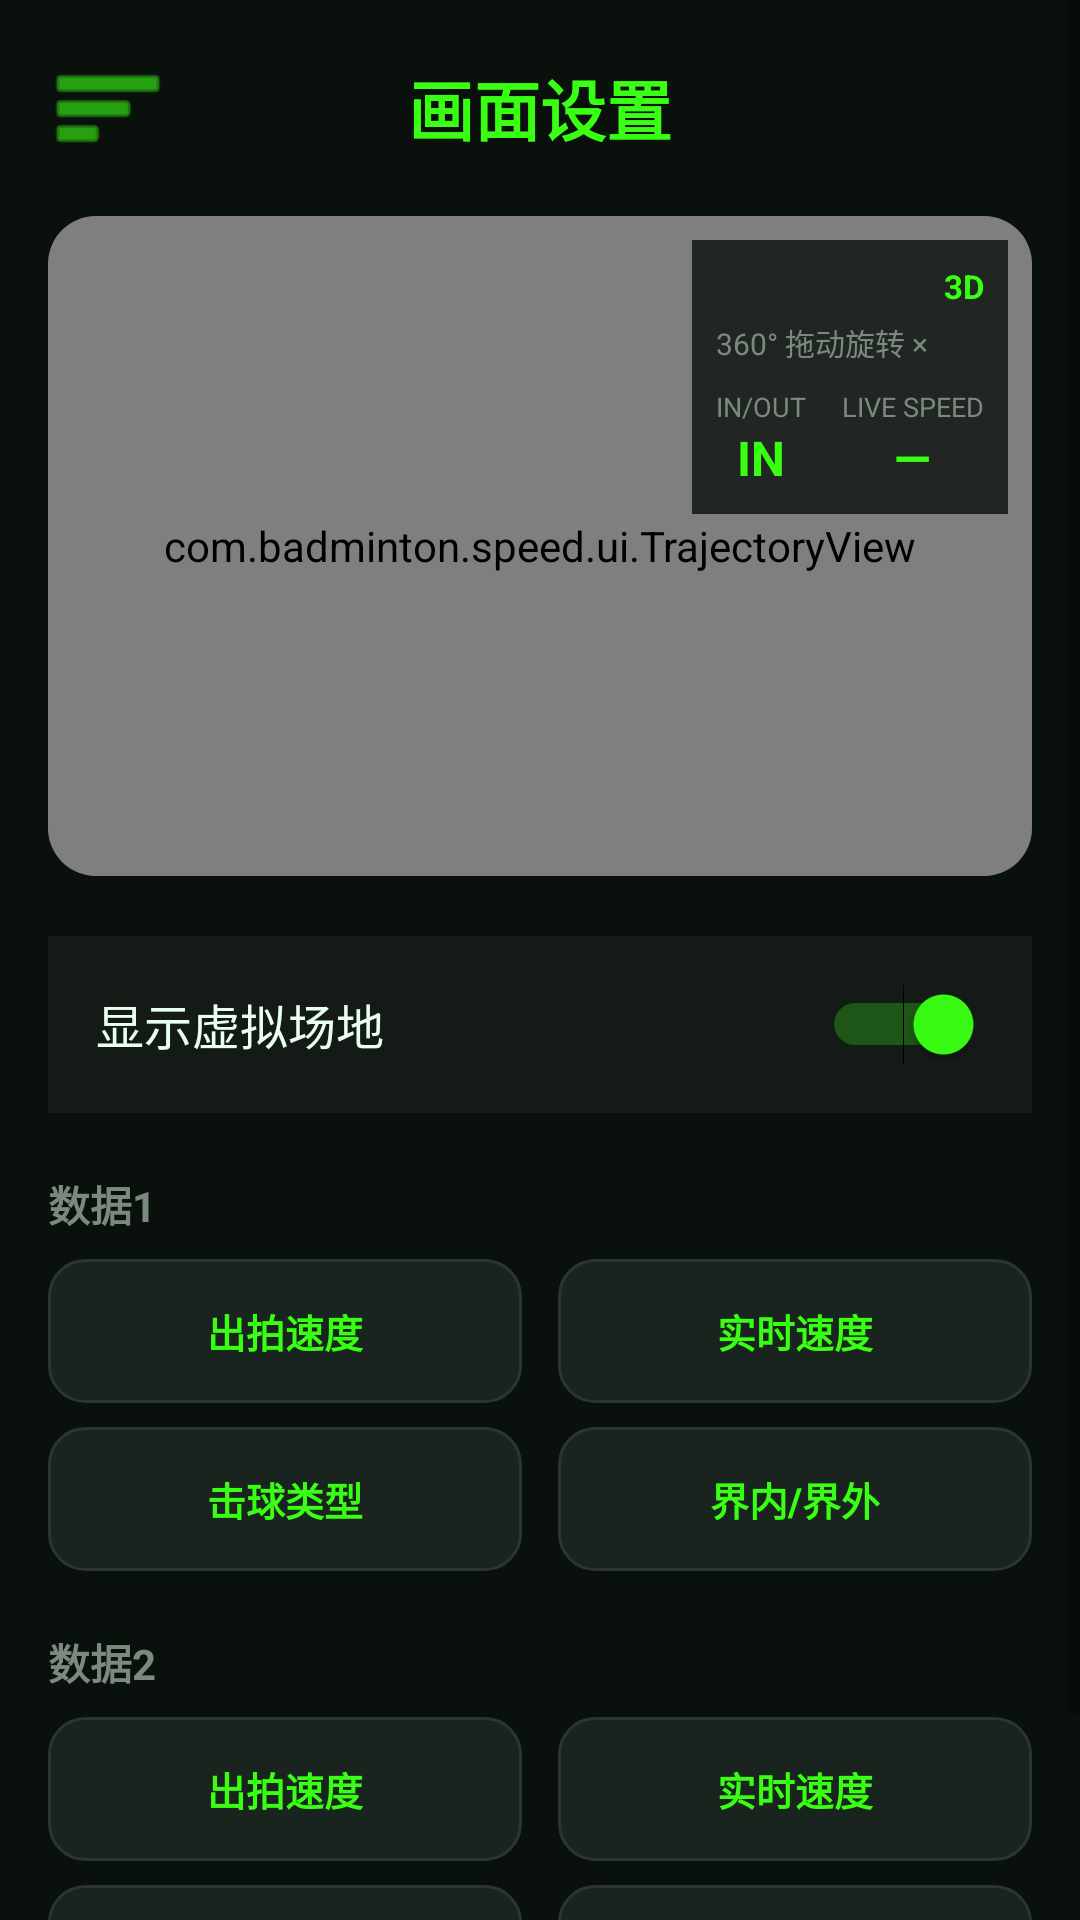

Icon bounding boxes for this 1080px x 1920px phone screenshot, format (x1, y1, x2, y2):
menu: (56, 75, 160, 142)
